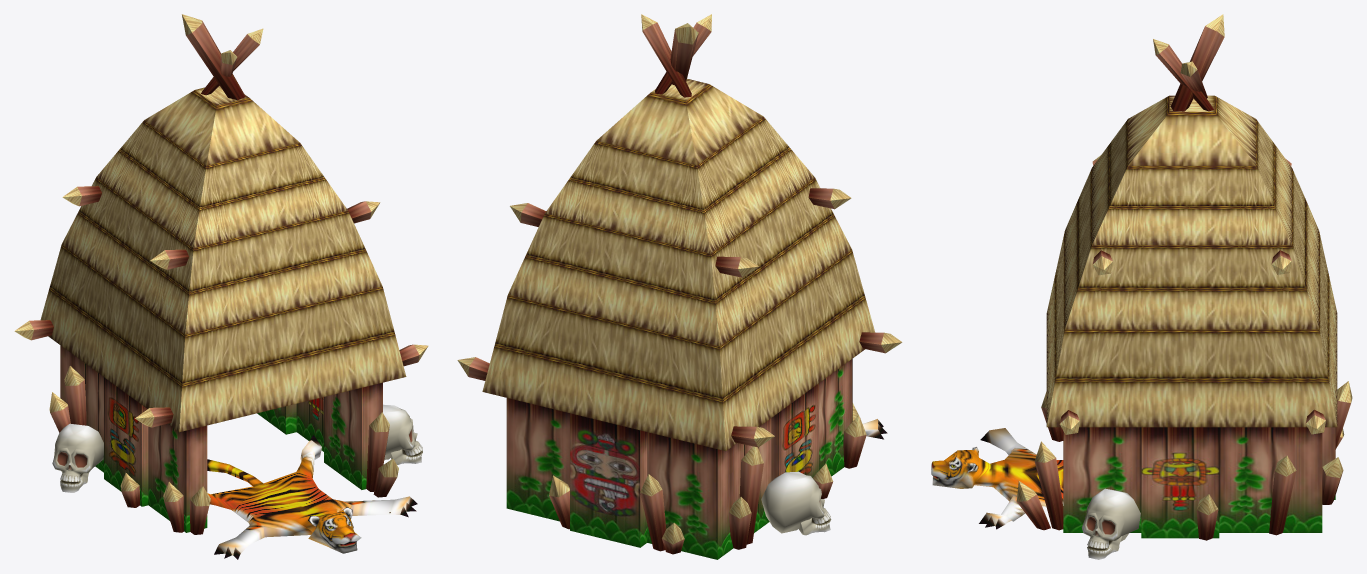
Rendered from Object_House.FBX.
3 views of the same model, side by side, from view 1: azimuth 30°, elevation 25°; view 2: azimuth 150°, elevation 25°; view 3: azimuth 270°, elevation 25° (orthographic). The views are drawn at different scales.
Visible parts, largest first — view 1: House, Tiger, Skull2, Skull1; view 2: House, Skull2; view 3: House, Tiger, Skull1.
Boxes of the visible parts, x1,y1,x2,y2 form: House: [14, 14, 428, 534]; Tiger: [207, 435, 417, 559]; Skull2: [52, 423, 103, 492]; Skull1: [383, 404, 422, 464]; House: [457, 14, 902, 559]; Skull2: [761, 471, 831, 535]; House: [1016, 14, 1352, 540]; Tiger: [931, 428, 1063, 529]; Skull1: [1082, 488, 1140, 559].
Size of the model in its own units: 132 by 183 by 153.
